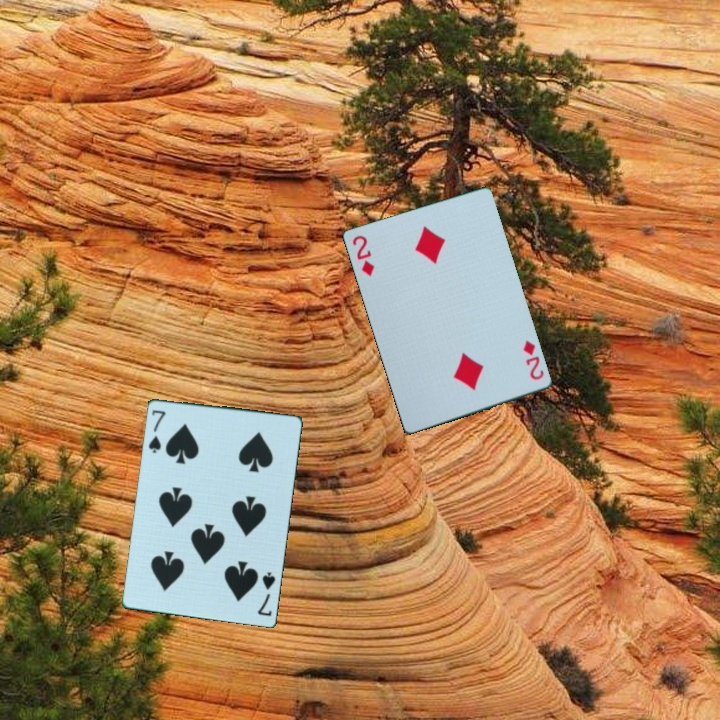2d: (349, 232, 379, 280), (520, 337, 547, 383)
7s: (254, 568, 278, 619), (145, 406, 168, 456)
